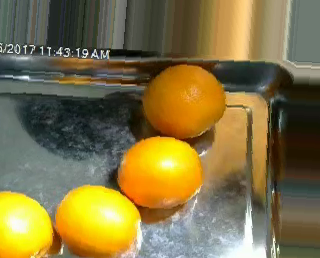Orange: (53, 182, 143, 258), (142, 63, 226, 139), (117, 137, 203, 209)
